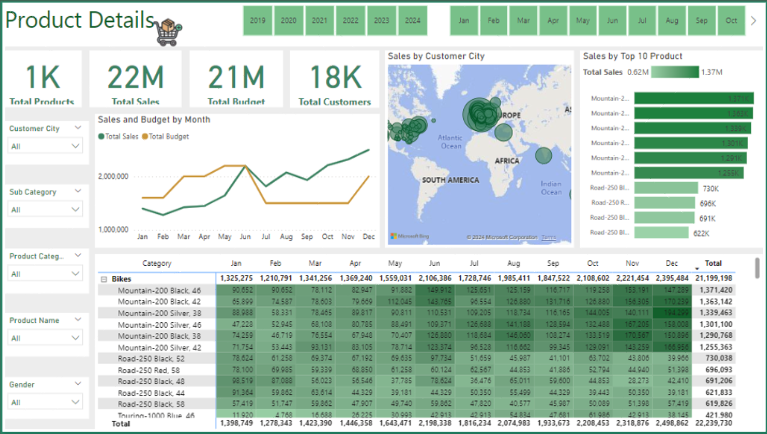

The dashboard page shown, as its layout file describes it:
{"tool":"powerbi","page":{"name":"Product Details","canvas":[1280,720],"ordinal":2},"visuals":[{"type":"textbox","box":[0,0,1280.2,76.3],"z":0},{"type":"slicer","fields":{"Values":["DIM_Customer.Customer City"]},"box":[0,200,146.3,73.1],"z":1000},{"type":"slicer","fields":{"Values":["DIM_Product.Sub Category"]},"box":[0,306.7,146.3,73.1],"z":2000},{"type":"slicer","fields":{"Values":["DIM_Product.Product Category"]},"box":[0,413.4,146.3,74.6],"z":3000},{"type":"slicer","fields":{"Values":["DIM_Product.Product Name"]},"box":[0,521.6,146.3,73.1],"z":4000},{"type":"slicer","fields":{"Values":["DIM_Calendar.Date.Variation.Date Hierarchy.Year"]},"box":[377.3,0,358.6,64.8],"z":5000},{"type":"slicer","fields":{"Values":["DIM_Calendar.MonthShort"]},"box":[722.9,0,544.3,64.8],"z":6000},{"type":"lineChart","title":"Sales and Budget by Month","fields":{"Y":["Measure Table.Total Sales","Measure Table.Total Budget"],"Category":["DIM_Calendar.MonthShort"]},"box":[155.2,188.1,476.1,223.9],"z":7000},{"type":"barChart","title":"Sales by Top 10 Product ","fields":{"Y":["Measure Table.Total Sales"],"Category":["DIM_Product.Product Name"]},"box":[966.1,82.1,313.9,329.8],"z":8000},{"type":"map","title":"Sales by Customer City","fields":{"Category":["DIM_Customer.Customer City"],"Size":["Measure Table.Total Sales"]},"box":[640.3,82.1,316.4,329.9],"z":9000},{"type":"slicer","fields":{"Values":["DIM_Customer.Gender"]},"box":[0,628.4,146.3,70.1],"z":10000},{"type":"card","fields":{"Values":["Measure Table.Total Sales"]},"box":[146.8,82.1,154.1,95],"z":11000},{"type":"card","fields":{"Values":["Measure Table.Total Budget"]},"box":[313.7,82.1,155.5,95],"z":12000},{"type":"card","fields":{"Values":["Measure Table.Customers"]},"box":[482.1,82.1,149.3,95.5],"z":13000},{"type":"card","fields":{"Values":["Measure Table.Producta"]},"box":[0,82.1,133.9,95],"z":14000},{"type":"pivotTable","fields":{"Rows":["DIM_Product.Product Category","DIM_Product.Product Name"],"Columns":["DIM_Calendar.MonthShort"],"Values":["Measure Table.Total Sales"]},"box":[155.2,422.4,1116.4,297],"z":15000},{"type":"image","box":[226.9,22.4,101.5,59.7],"z":16000}]}

Visuals, with their boxes in screenshot pixels (x1, y1, x2, y2), scaled from the page's 1280x720 canvas onto the 767x434 screenshot:
textbox: bbox=[0, 0, 766, 46]
slicer - DIM_Customer.Customer City: bbox=[0, 121, 88, 165]
slicer - DIM_Product.Sub Category: bbox=[0, 185, 88, 229]
slicer - DIM_Product.Product Category: bbox=[0, 249, 88, 294]
slicer - DIM_Product.Product Name: bbox=[0, 314, 88, 358]
slicer - DIM_Calendar.Date.Variation.Date Hierarchy.Year: bbox=[226, 0, 441, 39]
slicer - DIM_Calendar.MonthShort: bbox=[433, 0, 759, 39]
"Sales and Budget by Month" lineChart: bbox=[93, 113, 378, 248]
"Sales by Top 10 Product " barChart: bbox=[579, 49, 766, 248]
"Sales by Customer City" map: bbox=[384, 49, 573, 248]
slicer - DIM_Customer.Gender: bbox=[0, 379, 88, 421]
card - Measure Table.Total Sales: bbox=[88, 49, 180, 107]
card - Measure Table.Total Budget: bbox=[188, 49, 281, 107]
card - Measure Table.Customers: bbox=[289, 49, 378, 107]
card - Measure Table.Producta: bbox=[0, 49, 80, 107]
pivotTable - DIM_Product.Product Category x DIM_Product.Product Name: bbox=[93, 255, 762, 433]
image: bbox=[136, 14, 197, 49]
